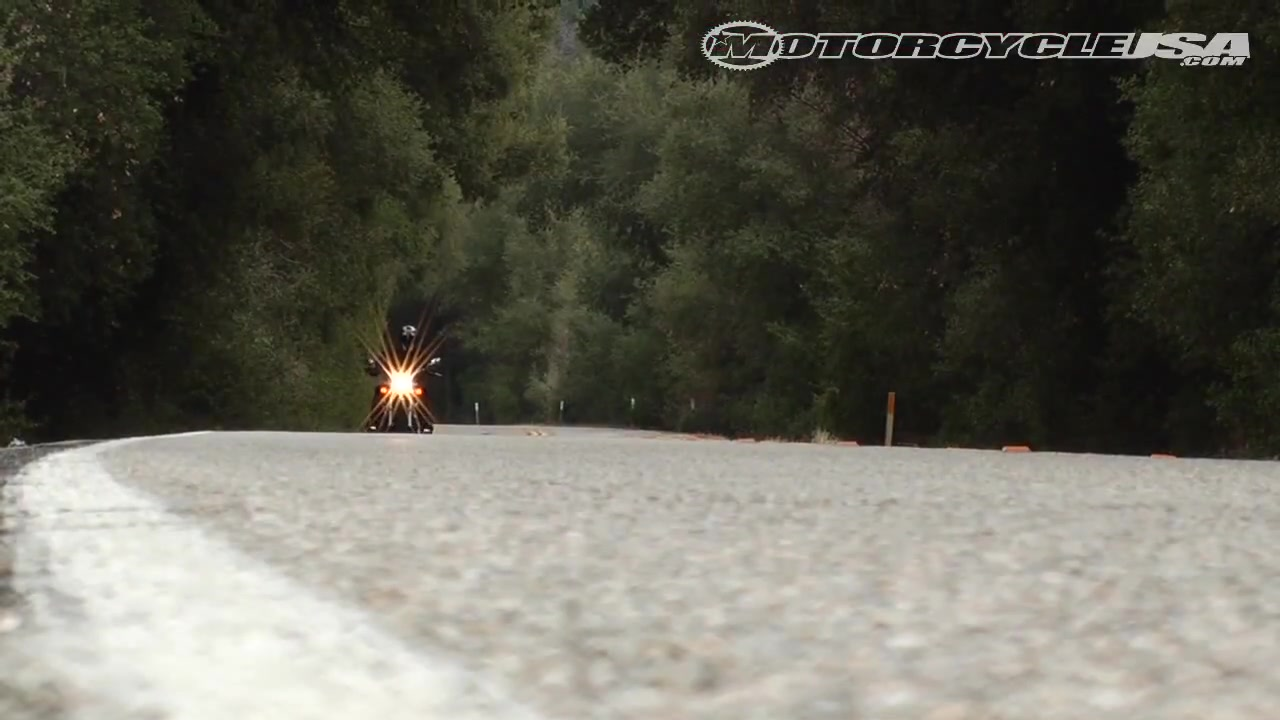motorbike: (371, 346, 444, 432)
